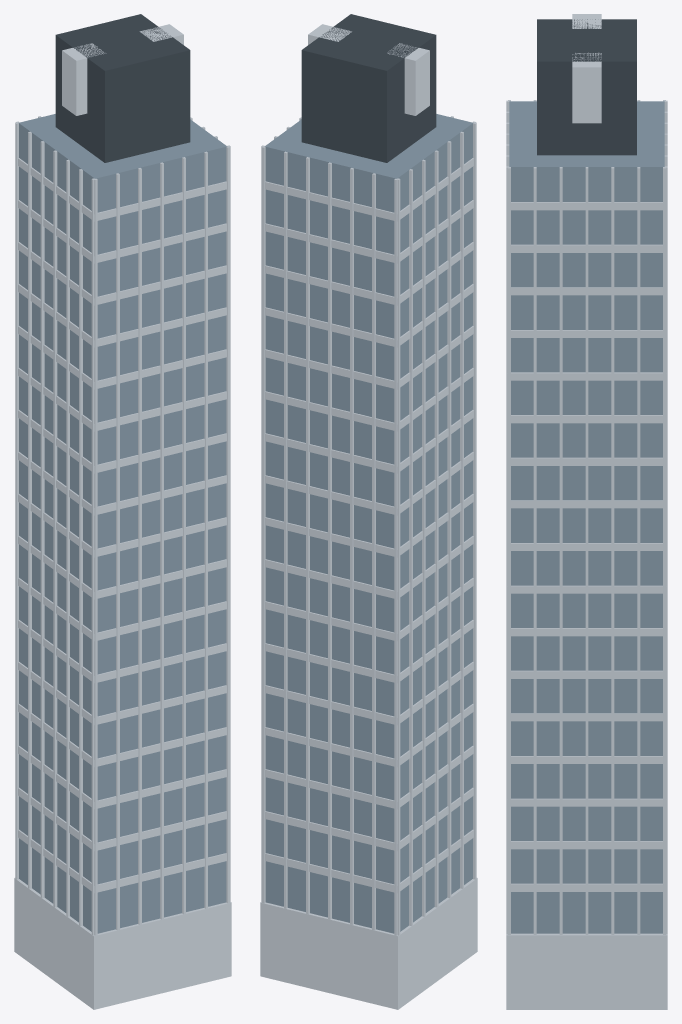
File: hsbc-uk.glb
3 renders of one model, left to right at view 1: azimuth 30°, elevation 25°; view 2: azimuth 150°, elevation 25°; view 3: azimuth 270°, elevation 25°, orthographic.
Visible parts, largest first — view 1: hsbc-uk, hsbc-uk-hat; view 2: hsbc-uk, hsbc-uk-hat; view 3: hsbc-uk, hsbc-uk-hat.
Part boxes in pixels (x1,y1,x2,y2): hsbc-uk: (14,24,231,1009); hsbc-uk-hat: (55,14,190,162); hsbc-uk: (260,24,477,1009); hsbc-uk-hat: (301,14,436,162); hsbc-uk: (506,14,667,1009); hsbc-uk-hat: (537,19,636,155).
Size of the model in its own units: 0.4222 by 2.69 by 0.4222.
